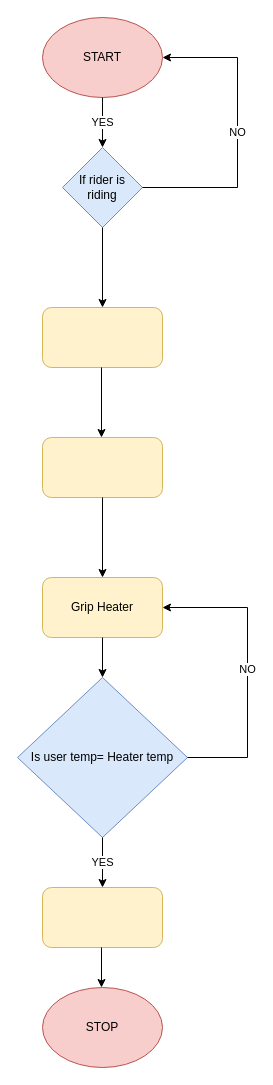
Some shapes in this 273 by 1085 pixel diagram are drawn without their labels. The shapes that lost their labels are listed below. From the top down, each one's centre as x and y in pixels, then its label:
At pixel 102 337: "Heater Switching ON".
At pixel 102 467: "Request will be sent to temperature sensor".
At pixel 102 917: "LCD Display".
